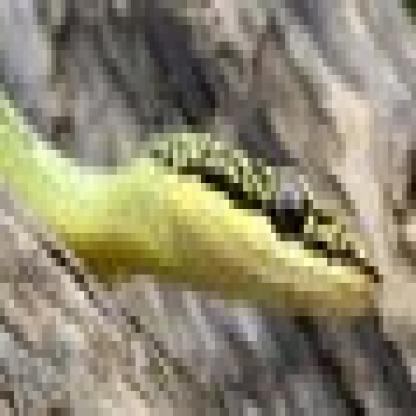Snake: (1, 65, 382, 347)
